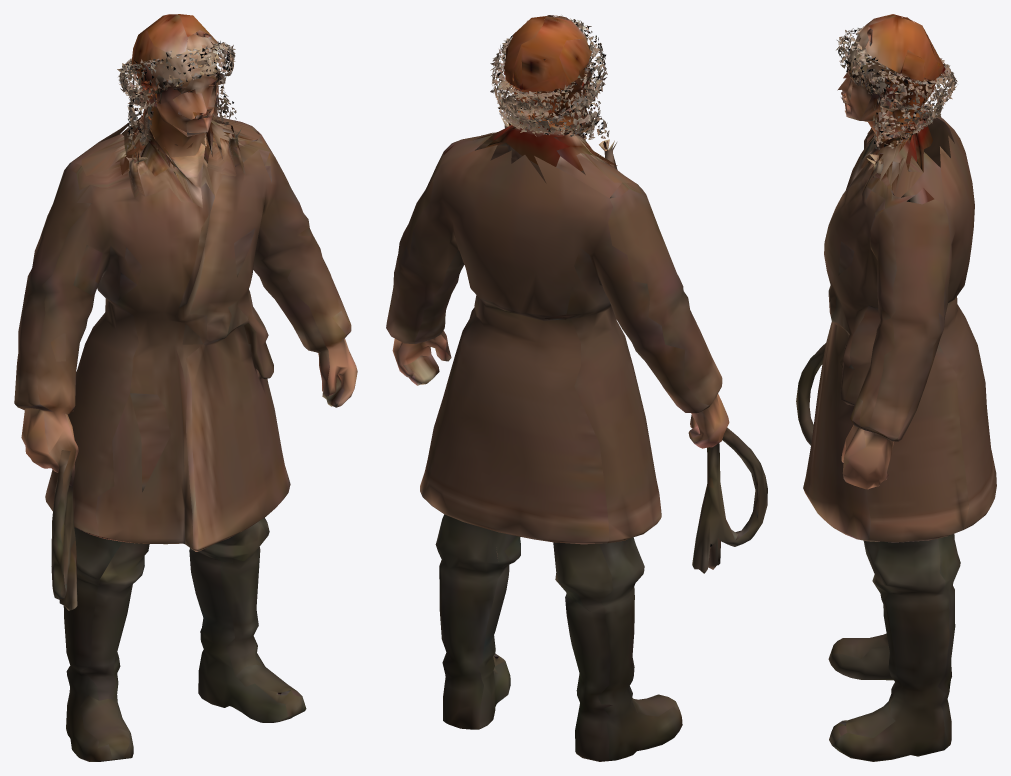
File: herder-dauren.gen.phone.glb
3 renders of one model, left to right at view 1: azimuth 30°, elevation 25°; view 2: azimuth 150°, elevation 25°; view 3: azimuth 270°, elevation 25°, orthographic.
Parts seen in each view (by area): view 1: herder-dauren.raw; view 2: herder-dauren.raw; view 3: herder-dauren.raw.
Boxes of the visible parts, x1=… form: herder-dauren.raw: x1=14, y1=14, x2=357, y2=761; herder-dauren.raw: x1=386, y1=15, x2=767, y2=761; herder-dauren.raw: x1=796, y1=14, x2=996, y2=761.
Size of the model in its own units: 0.9164 by 1.85 by 0.4825.
1 material, 1 textured.
